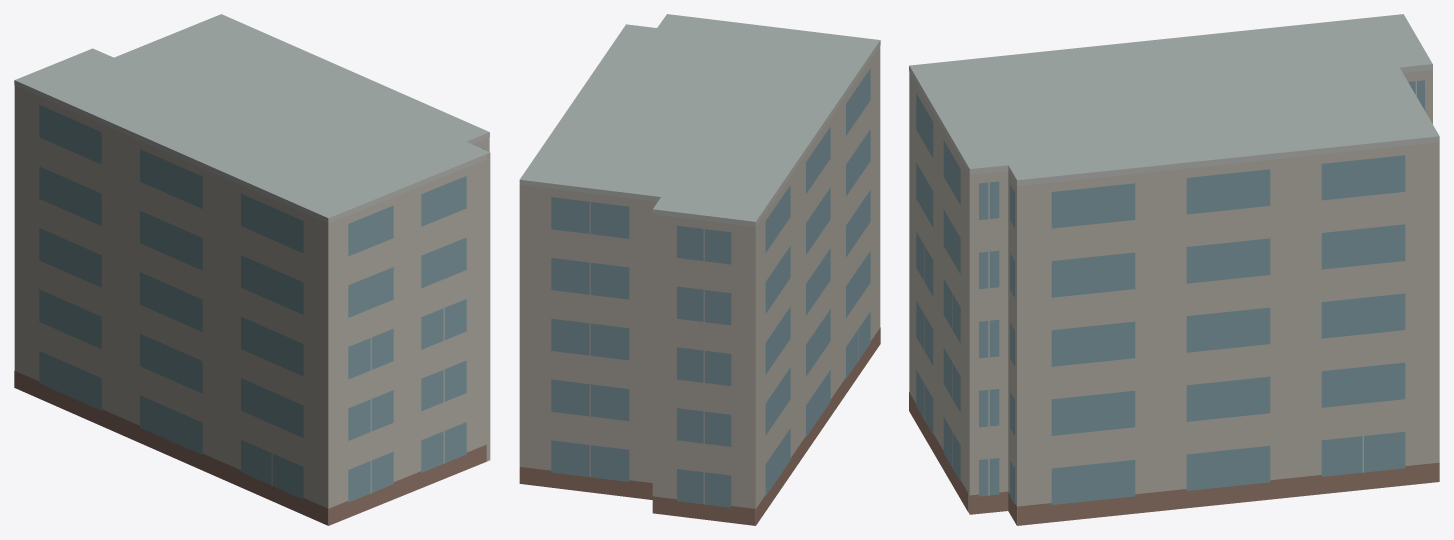
The model's file is survey-upis-32597417.glb.
3 views of the same model, side by side, from view 1: azimuth 30°, elevation 25°; view 2: azimuth 150°, elevation 25°; view 3: azimuth 270°, elevation 25° (orthographic). The views are drawn at different scales.
Visible parts, largest first — view 1: survey-upis-32597417.tmp; view 2: survey-upis-32597417.tmp; view 3: survey-upis-32597417.tmp.
Part boxes in pixels (x1,y1,x2,y2): survey-upis-32597417.tmp: [14, 14, 490, 525]; survey-upis-32597417.tmp: [519, 14, 880, 525]; survey-upis-32597417.tmp: [909, 14, 1439, 525].
Bounding box in the file's own units: 14.97 × 14.5 × 20.18.
